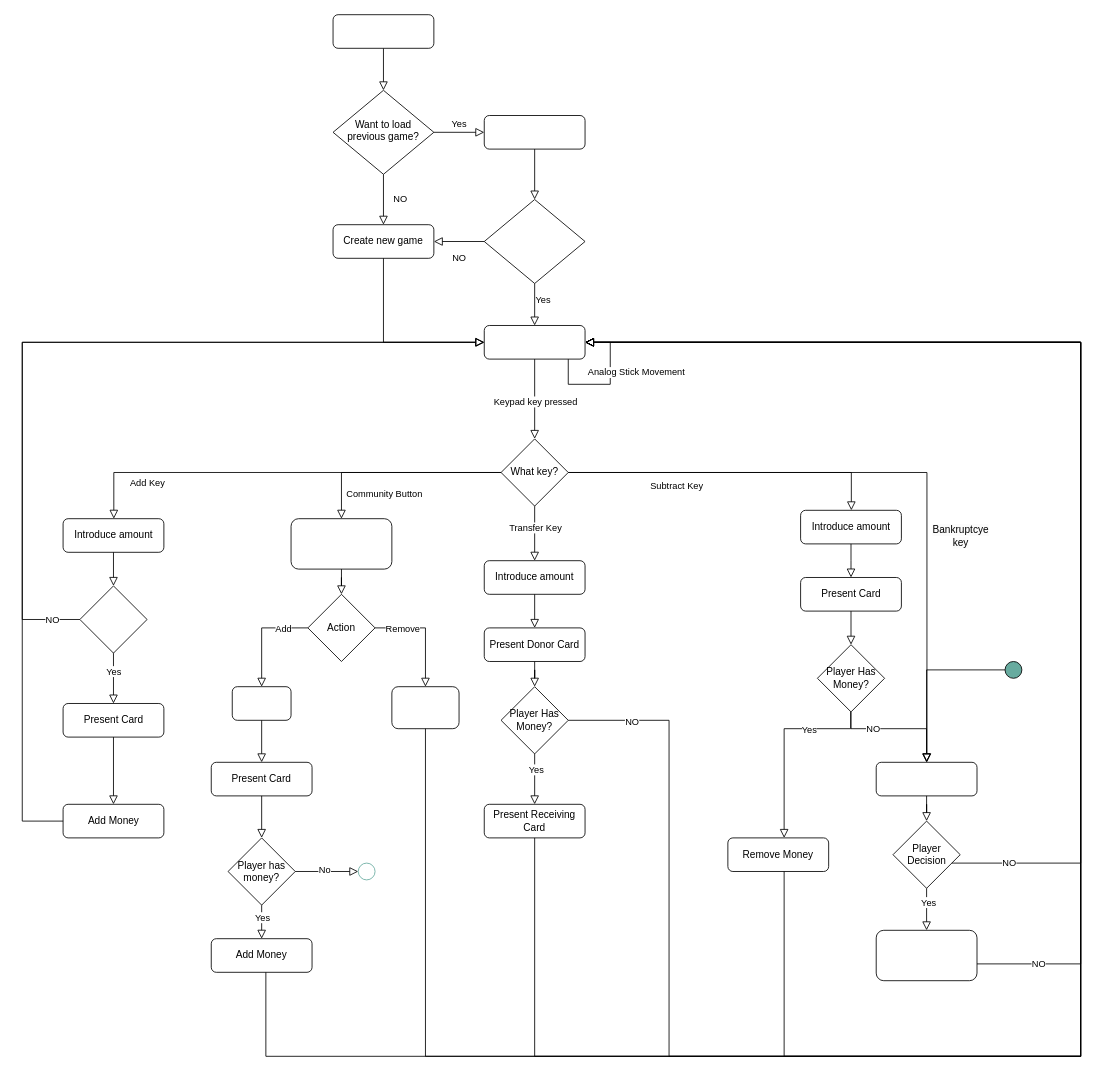
The diagram is 1104 pixels wide and 1079 high, and some of its shapes have lost their labels. The box of each missing label's shape, as (x1, y1, x2, y2) in pixels:
Add money to community space, and remove player from game: (875, 929, 977, 981)
Add or remove?: (290, 518, 392, 569)
Arduino is booted: (332, 14, 434, 48)
Bank has money?: (79, 585, 147, 653)
Declare Bankruptcye: (875, 761, 977, 796)
Load previous game: (483, 115, 585, 149)
Present Receiver card: (391, 686, 459, 729)
Preview Menu: (483, 325, 585, 359)
Quantity?: (231, 686, 291, 720)
Successful load?: (483, 199, 585, 284)
